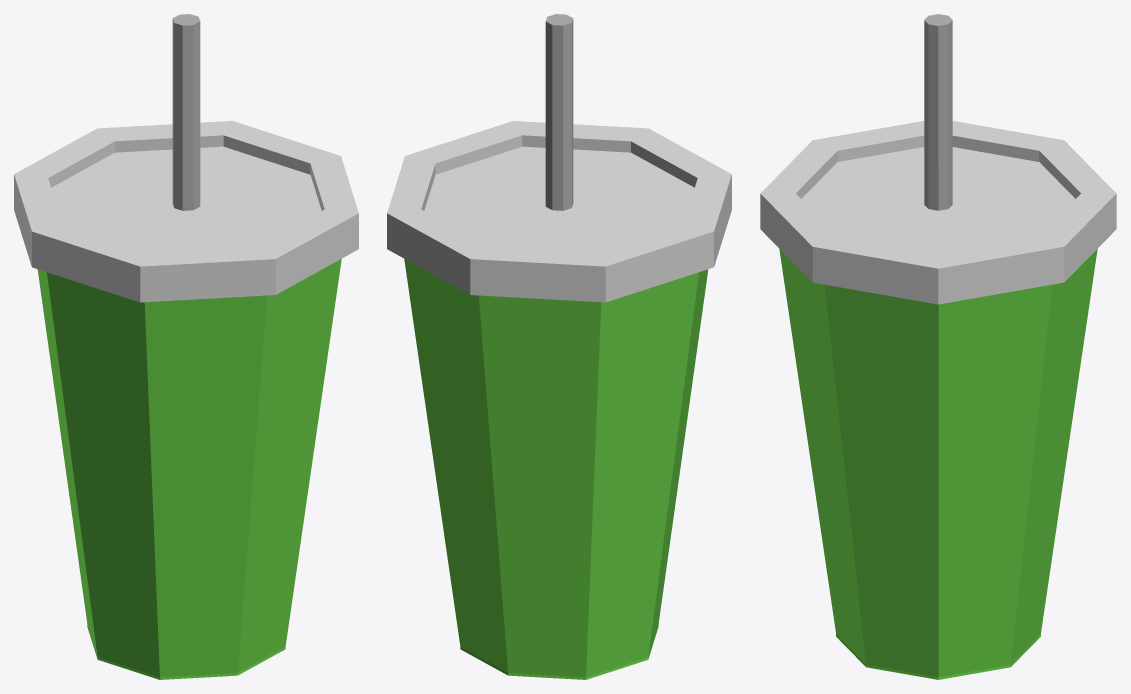
The model's file is soda.fbx.
3 views of the same model, side by side, from view 1: azimuth 30°, elevation 25°; view 2: azimuth 150°, elevation 25°; view 3: azimuth 270°, elevation 25° (orthographic).
Parts seen in each view (by area): view 1: Cylinder; view 2: Cylinder; view 3: Cylinder.
Boxes of the visible parts, <box> form: Cylinder: <box>14,14,358,679</box>; Cylinder: <box>387,14,731,679</box>; Cylinder: <box>760,14,1116,679</box>.
Bounding box in the file's own units: 335 × 640 × 335.
